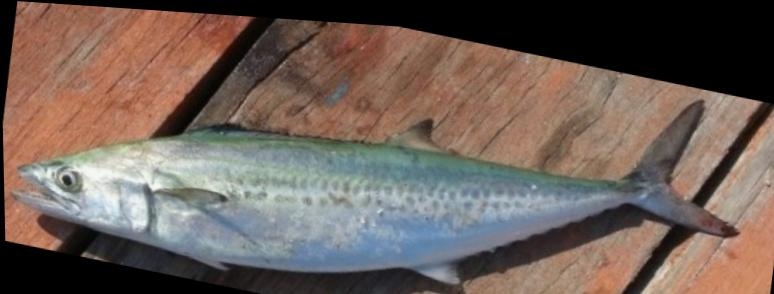fish: (11, 91, 739, 277)
